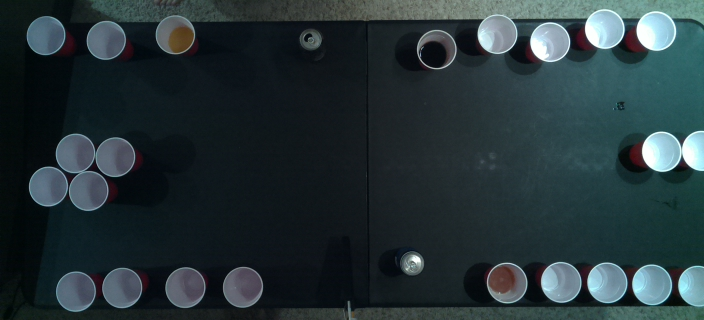active bp cup: (638, 130, 681, 173), (94, 136, 137, 177), (54, 132, 95, 174), (27, 166, 68, 207), (68, 170, 109, 211), (681, 129, 703, 172)
can: (398, 249, 424, 276), (296, 26, 322, 51)
drink cup: (414, 27, 457, 70), (484, 261, 528, 303), (152, 14, 196, 55)
inactive bp cup: (524, 21, 572, 63), (630, 261, 674, 305), (99, 265, 143, 309), (163, 265, 207, 308), (24, 14, 67, 57), (584, 263, 628, 305), (539, 260, 581, 304), (474, 13, 517, 55), (54, 270, 97, 312), (221, 266, 264, 308), (582, 8, 626, 49), (633, 11, 678, 51), (84, 21, 128, 61), (676, 262, 703, 307)
